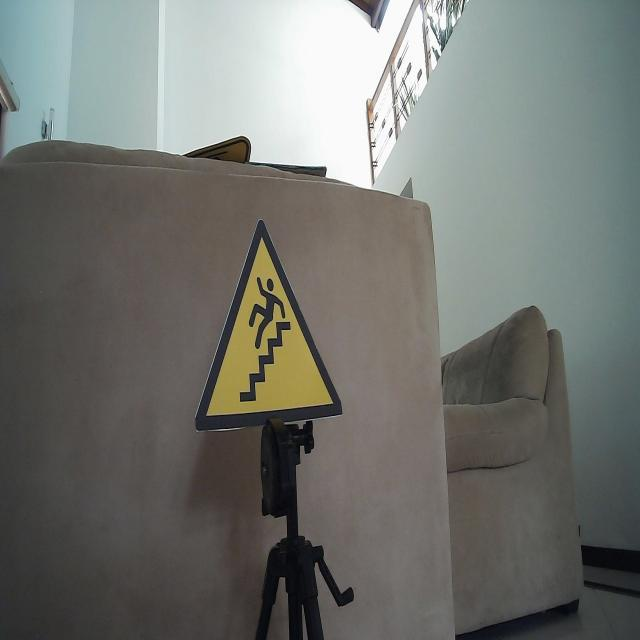stairs: (192, 215, 344, 434)
